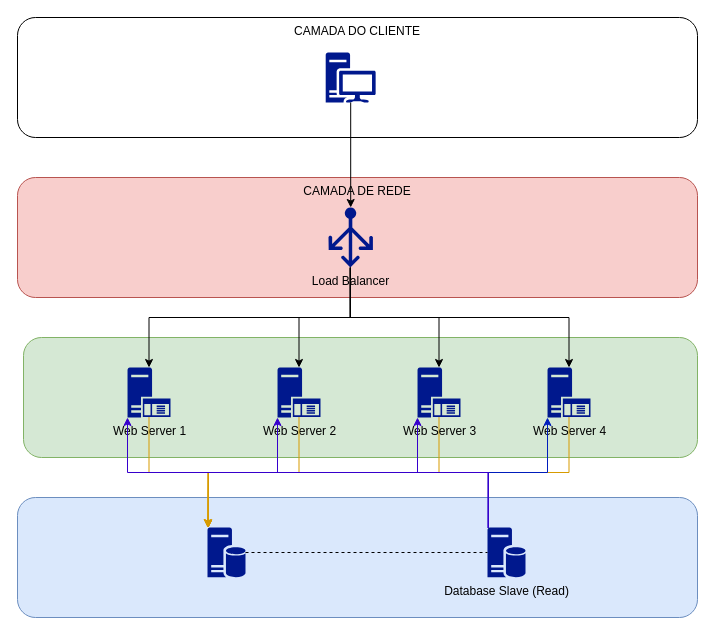
This 715x635 diagram has some shape labels left out. The shapes that lost their labels are listed below. From the top down, each one's box as (x1, y1, x2, y2) in pixels, then its label:
(325, 52, 375, 102): User
(22, 336, 698, 458): CAMADA DE APLICAÇÃO
(207, 527, 245, 577): Database Master (Write)
(16, 496, 698, 618): CAMADA DE DADOS
